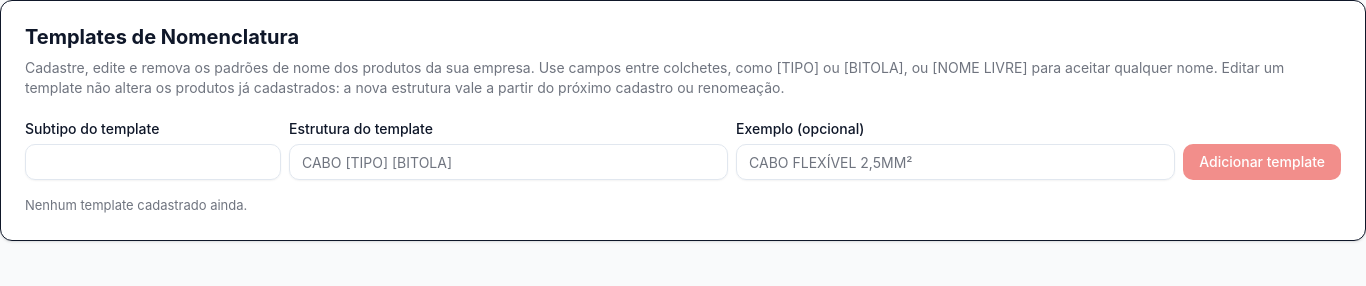
Test case: TemplatesNomenclaturaSection › cadastro 500: mostra role="alert" genérico
Expected: the text "Nenhum template cadastrado ainda." is shown, x1=25 y1=197 x2=247 y2=213
Type "X1" into the field labelled "Subtipo do template" at (153, 162), box x1=25 y1=144 x2=281 y2=180
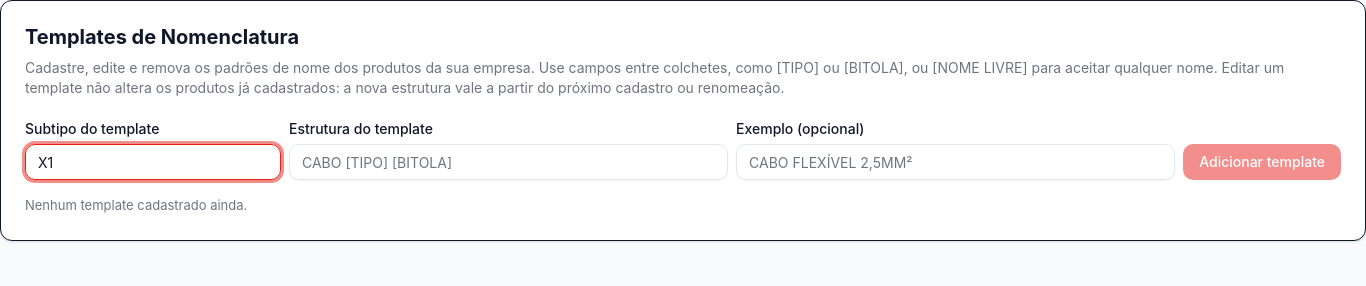
Type "SEM TOKEN" into the field labelled "Estrutura do template" at (509, 162), box x1=289 y1=144 x2=728 y2=180
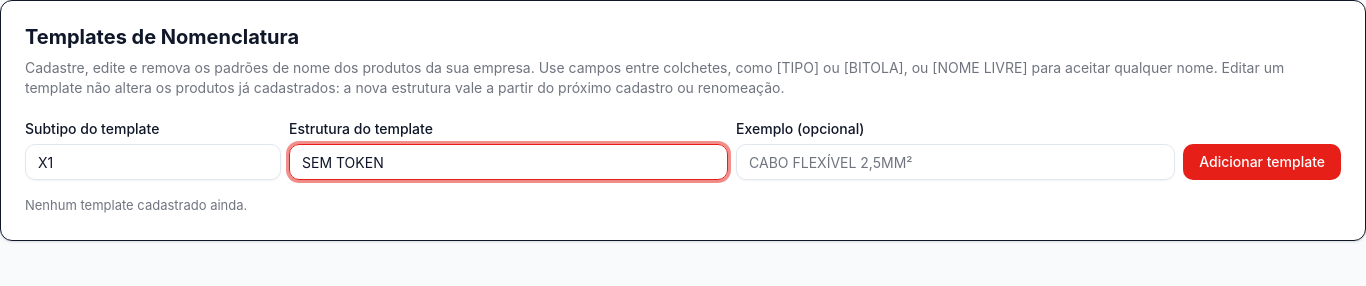
Click the button "Adicionar template" at (1262, 162), box x1=1183 y1=144 x2=1341 y2=180
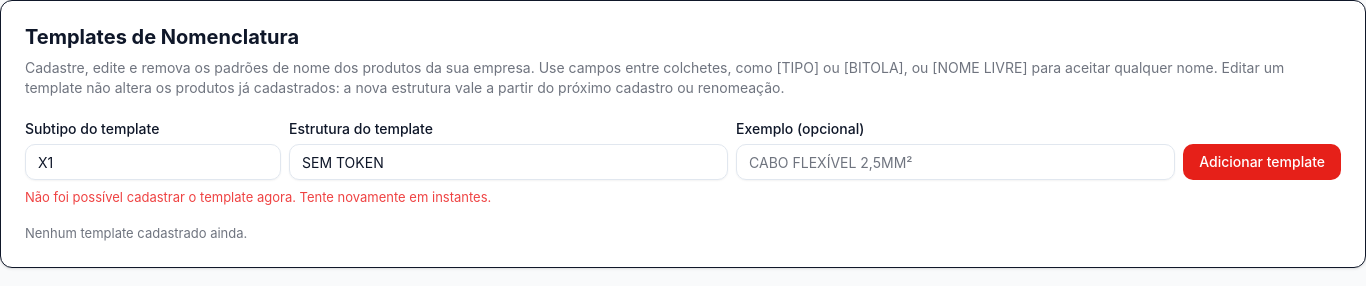
Now the message shows "Não foi possível cadastrar o template agora.", box x1=25 y1=189 x2=491 y2=205
